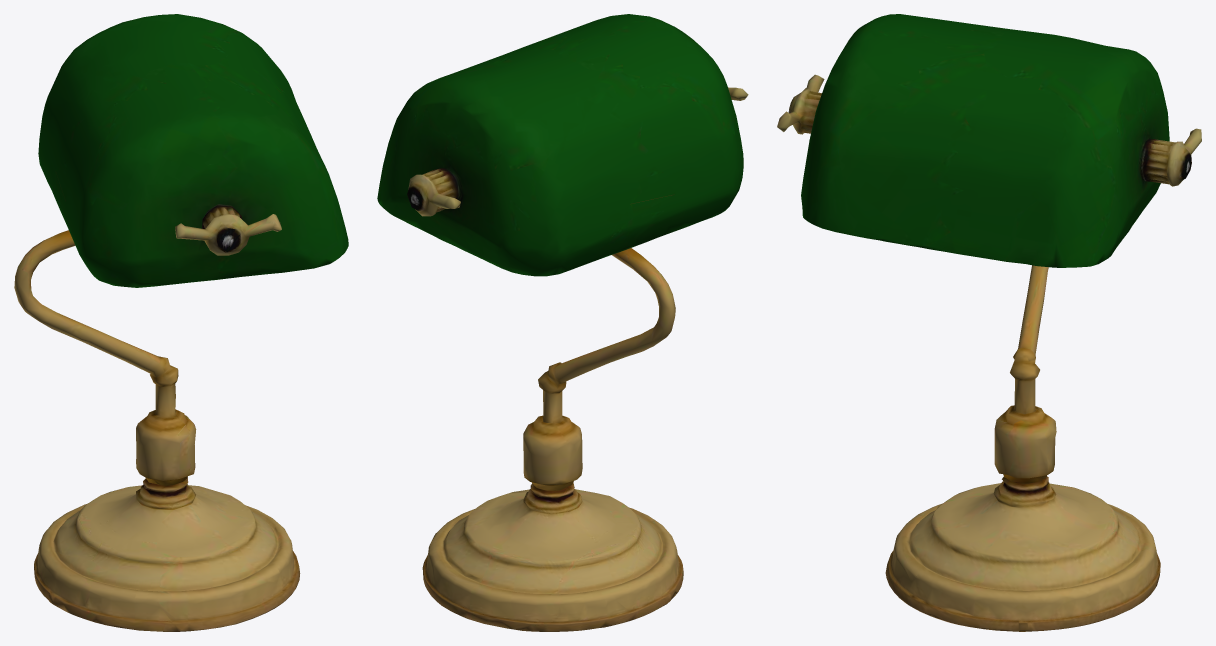
Rendered from lamp-v1.glb.
The picture shows the model from 3 angles, left to right: view 1: azimuth 30°, elevation 25°; view 2: azimuth 150°, elevation 25°; view 3: azimuth 270°, elevation 25°; orthographic projection. The views are drawn at different scales.
Parts seen in each view (by area): view 1: prop__lamp; view 2: prop__lamp; view 3: prop__lamp.
Part boxes in pixels (x1,y1,x2,y2): prop__lamp: (14, 14, 348, 631); prop__lamp: (377, 14, 748, 631); prop__lamp: (777, 14, 1201, 631).
Bounding box in the file's own units: 0.2453 × 0.42 × 0.3035.
1 material, 1 textured.
